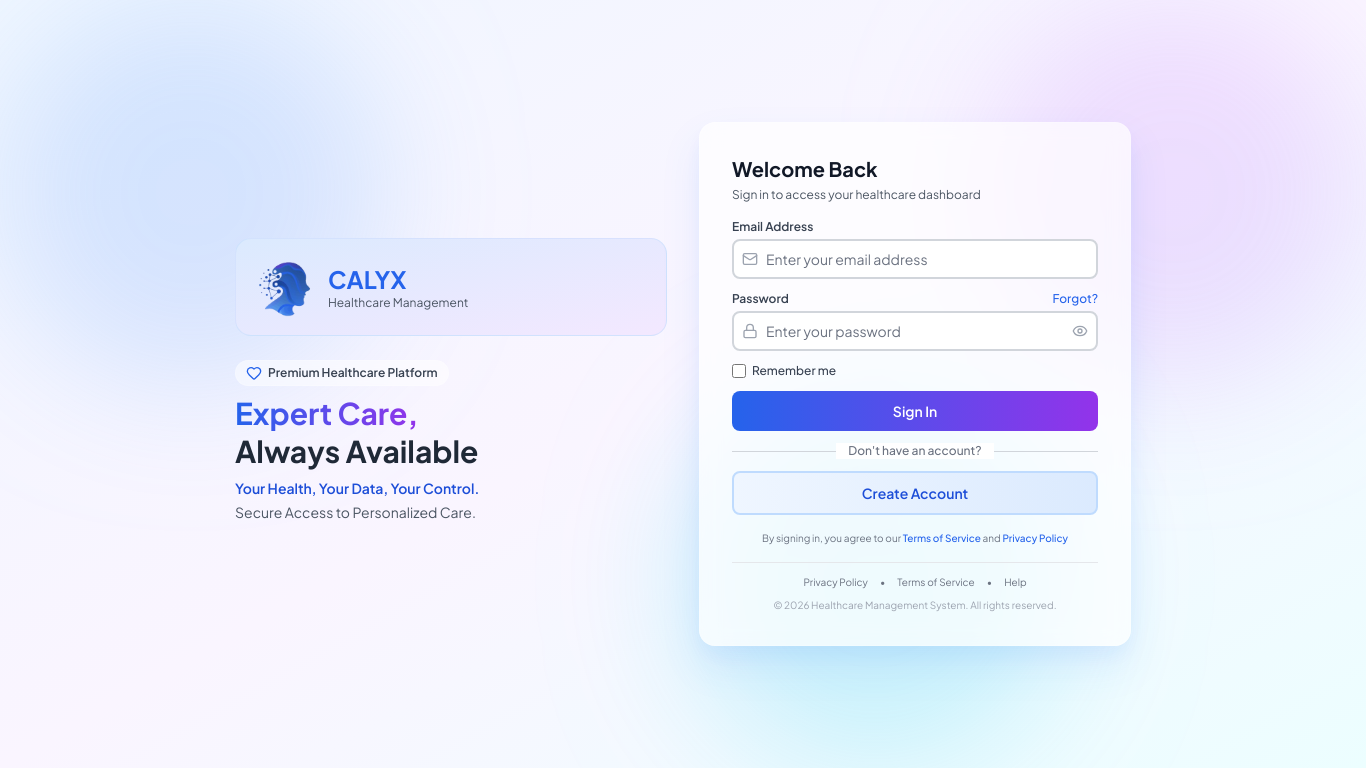
Test: Authentication Flow Integration Tests › Login Flow › should validate email field on blur
Note: Type invalid email and clear it, then trigger blur
Type "invalid" into the field with placeholder "Enter your email address" at (915,259), box 732,239 -> 1098,279
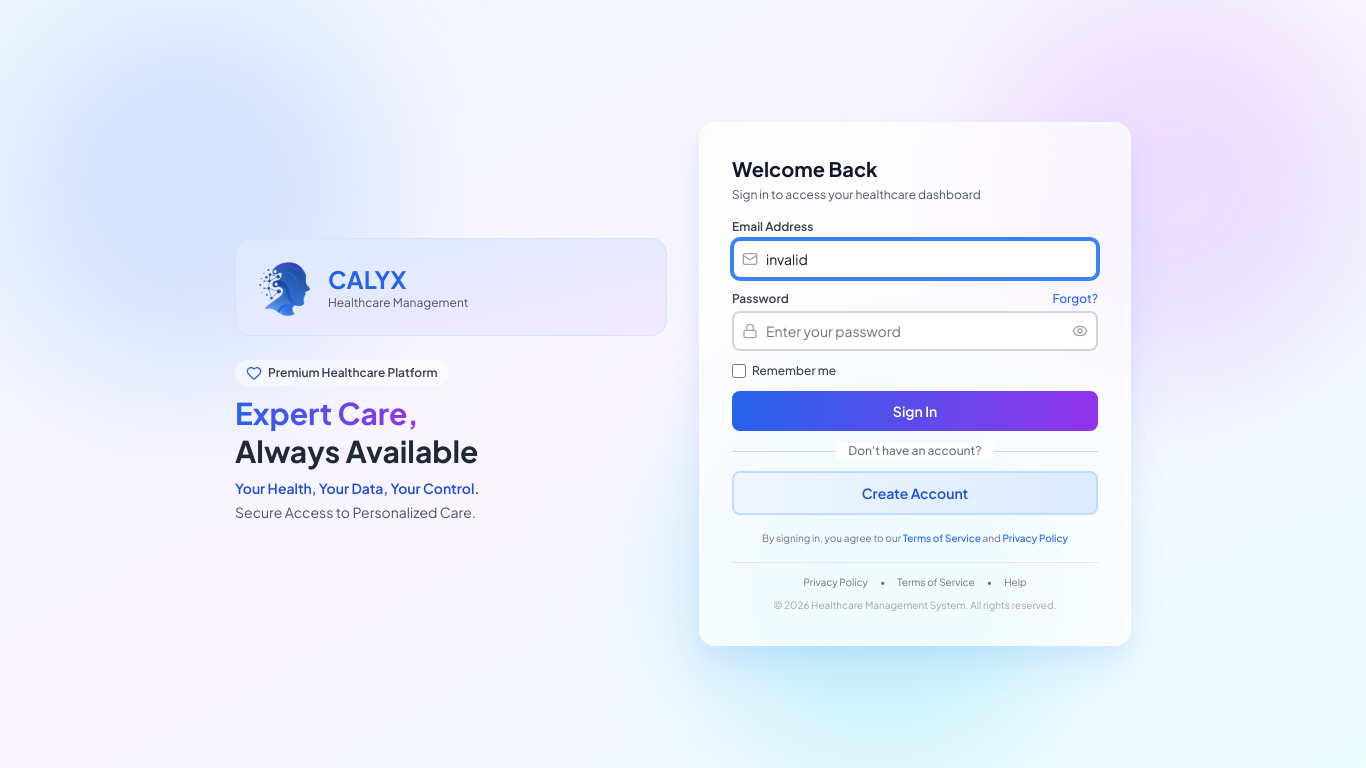
Clear the field with placeholder "Enter your email address" at (915,259), box 732,239 -> 1098,279
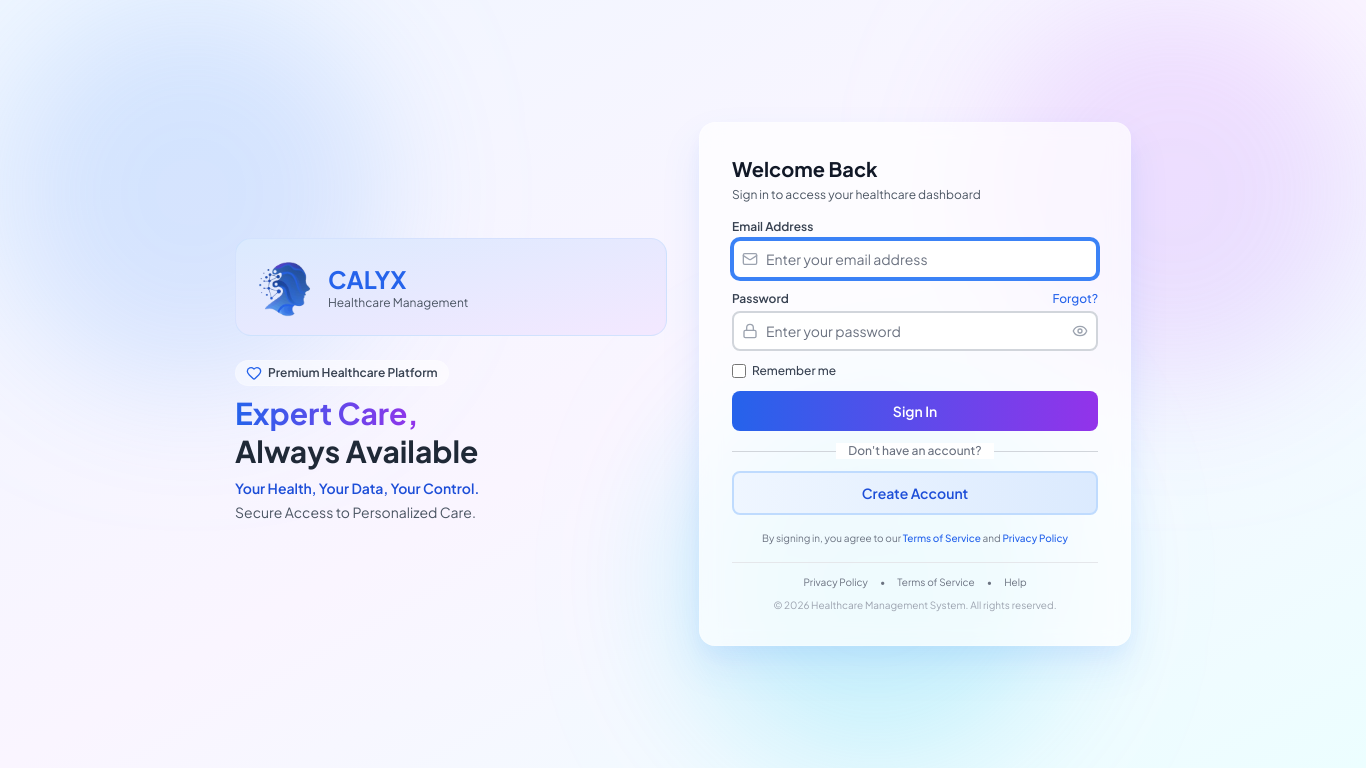
Press Tab
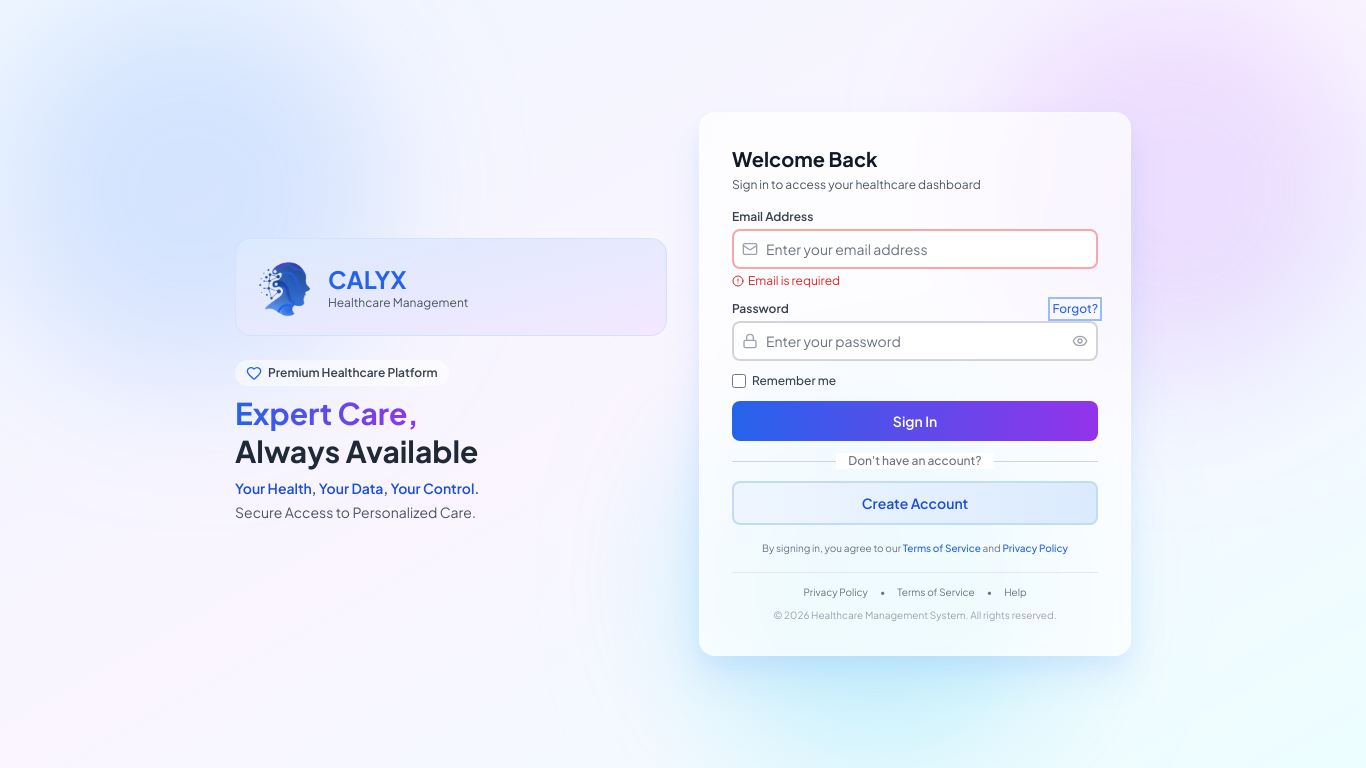
Result: the text "Email is required" is shown at 732,273 -> 840,288
